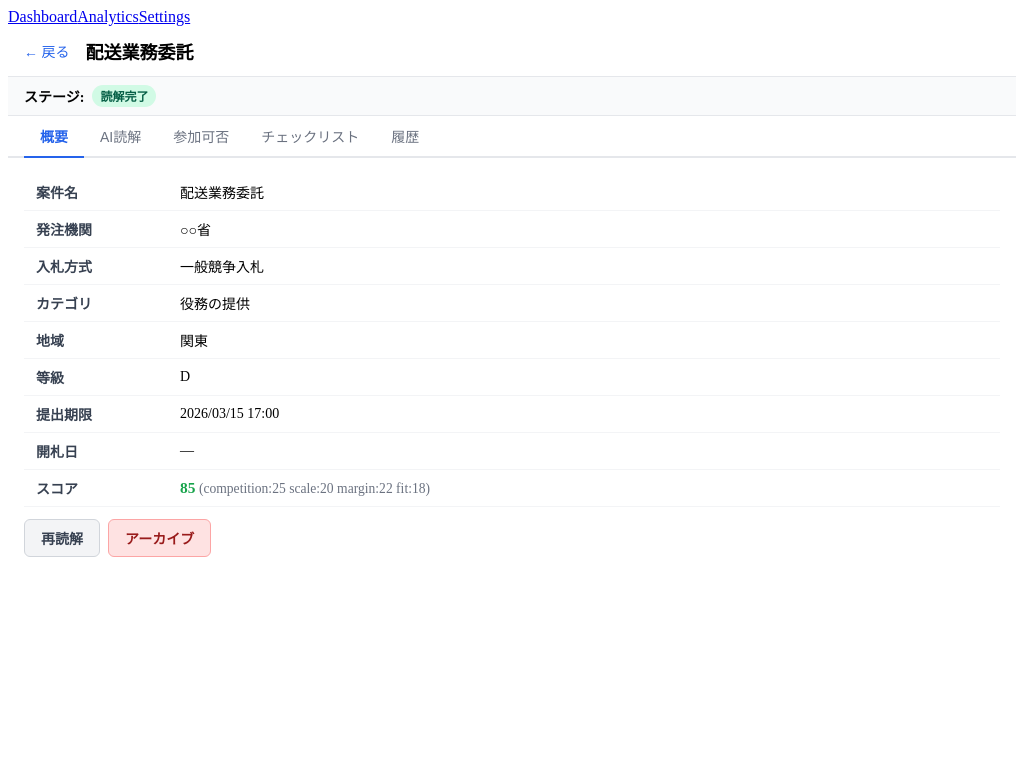
Test: ReadingTab — ScannedWarning › shows scanned PDF warning when is_scanned is true
Click the button with test id "tab-reading". click: (121, 137)
box: [84,116,157,158]
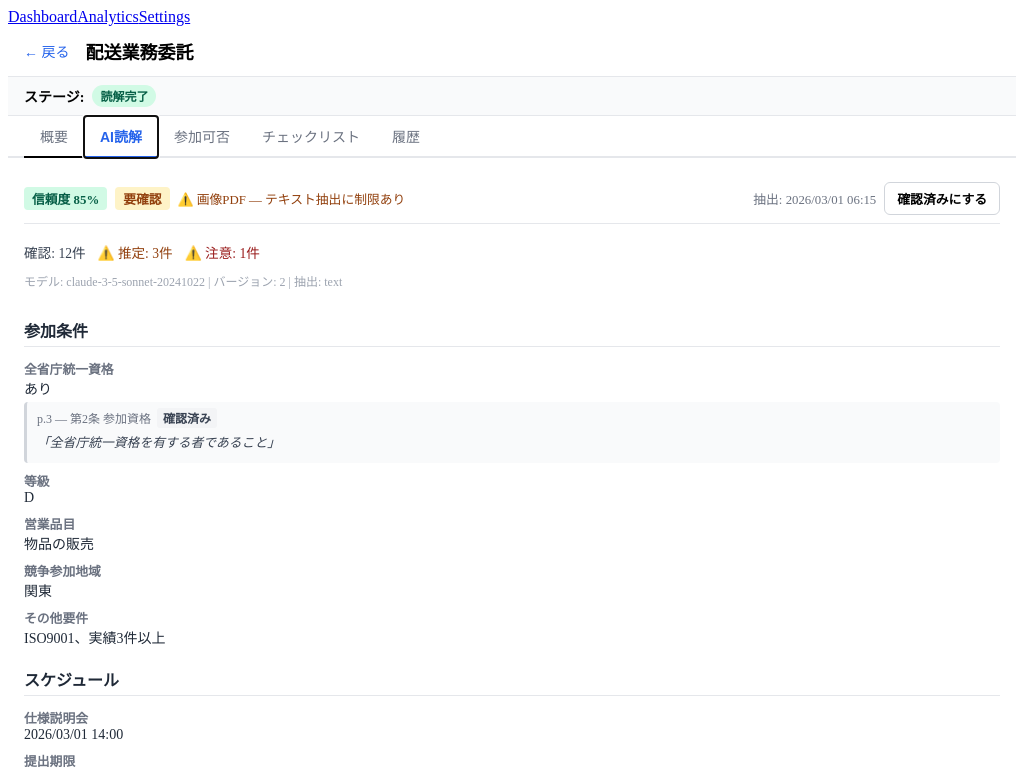
Now the text with test id "scanned-warning" shows "画像PDF", box [178,193,405,207]
